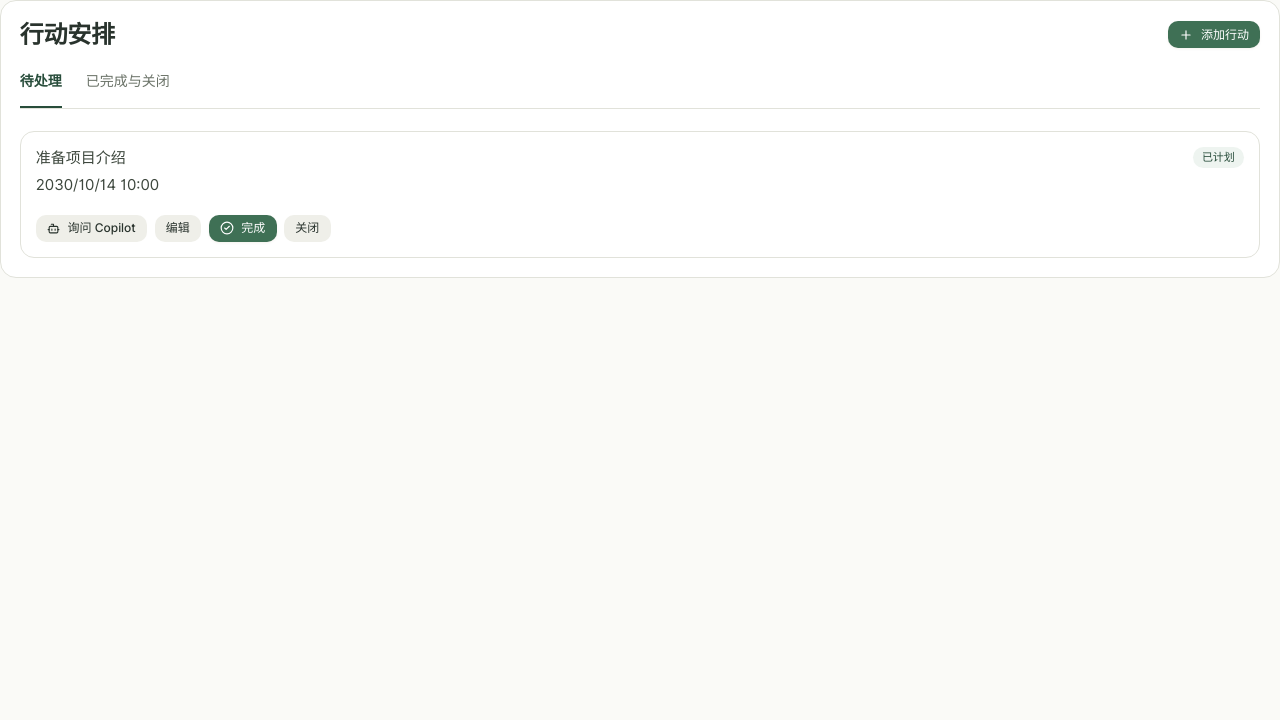
Test: replaces fixed scheduling when edited to flexible
This screenshot has width=1280, height=720.
Click the button "编辑".
click(178, 228)  # box [155,215,201,242]
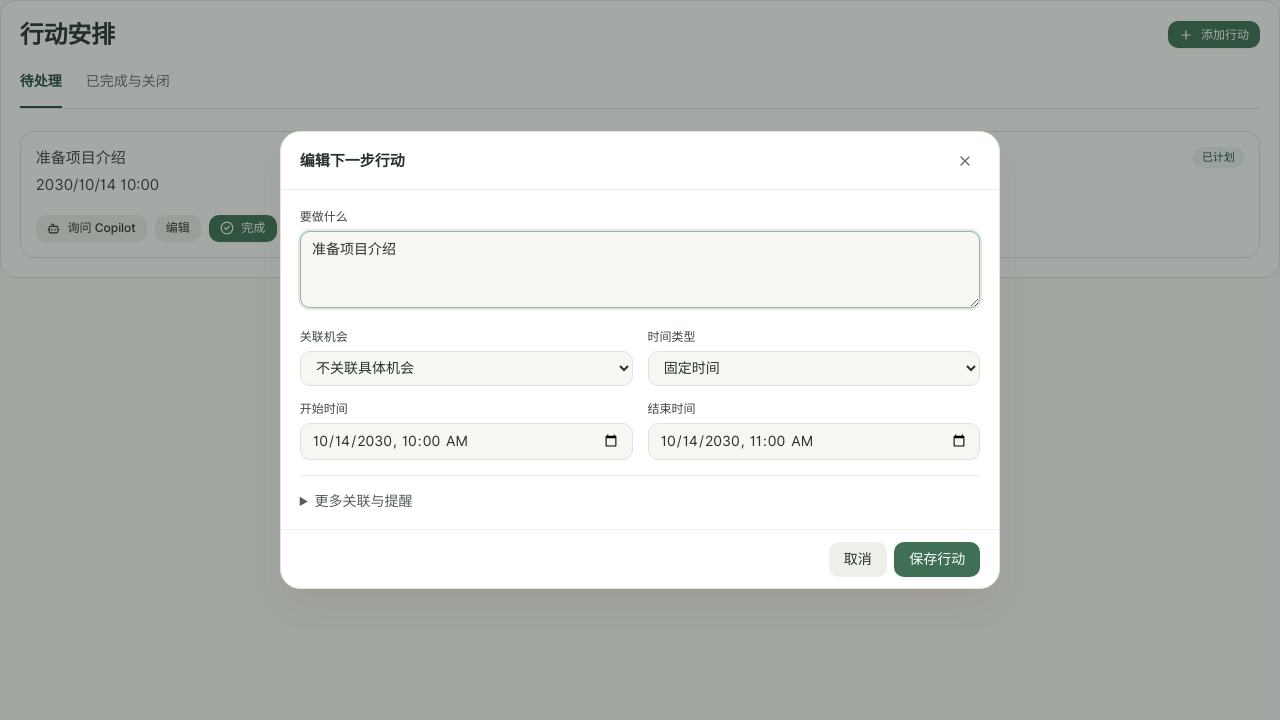
Select "灵活安排" in the dropdown labelled "时间类型" at (814,368), box [648,351,980,386]
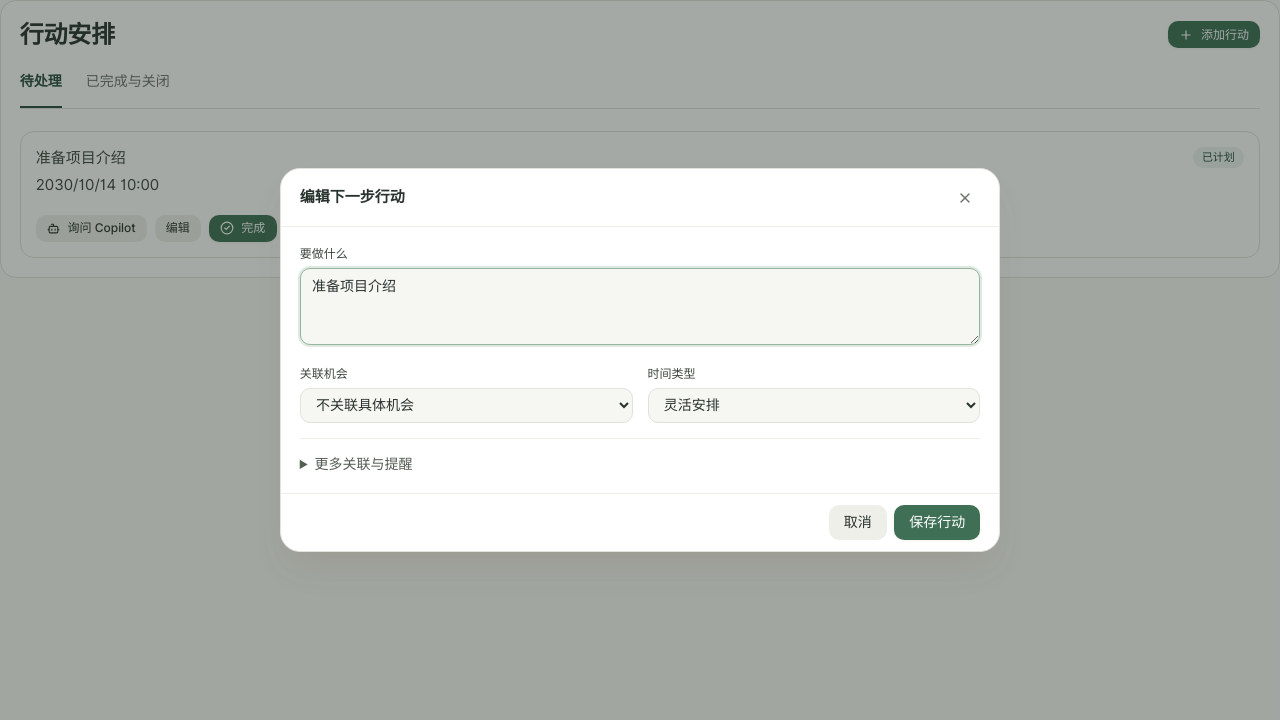
Click the button "保存行动".
click(937, 522)  # box [894,505,980,540]
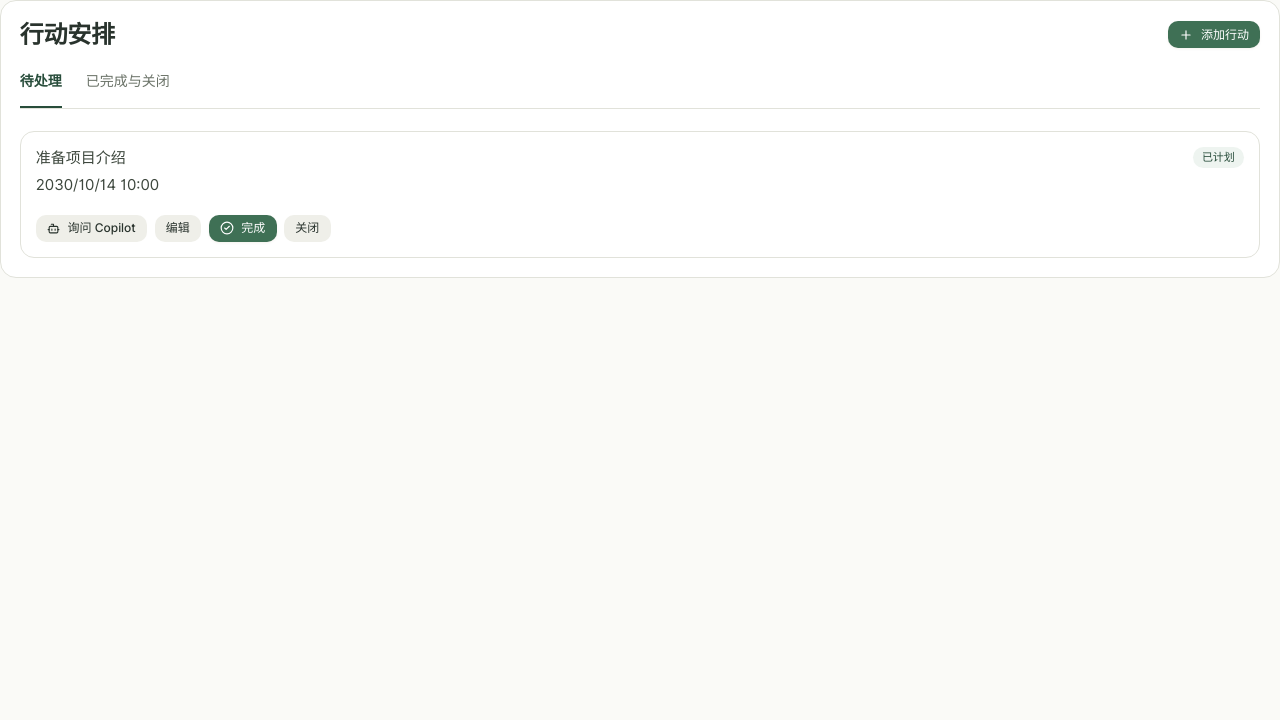
Now the dialog is gone
